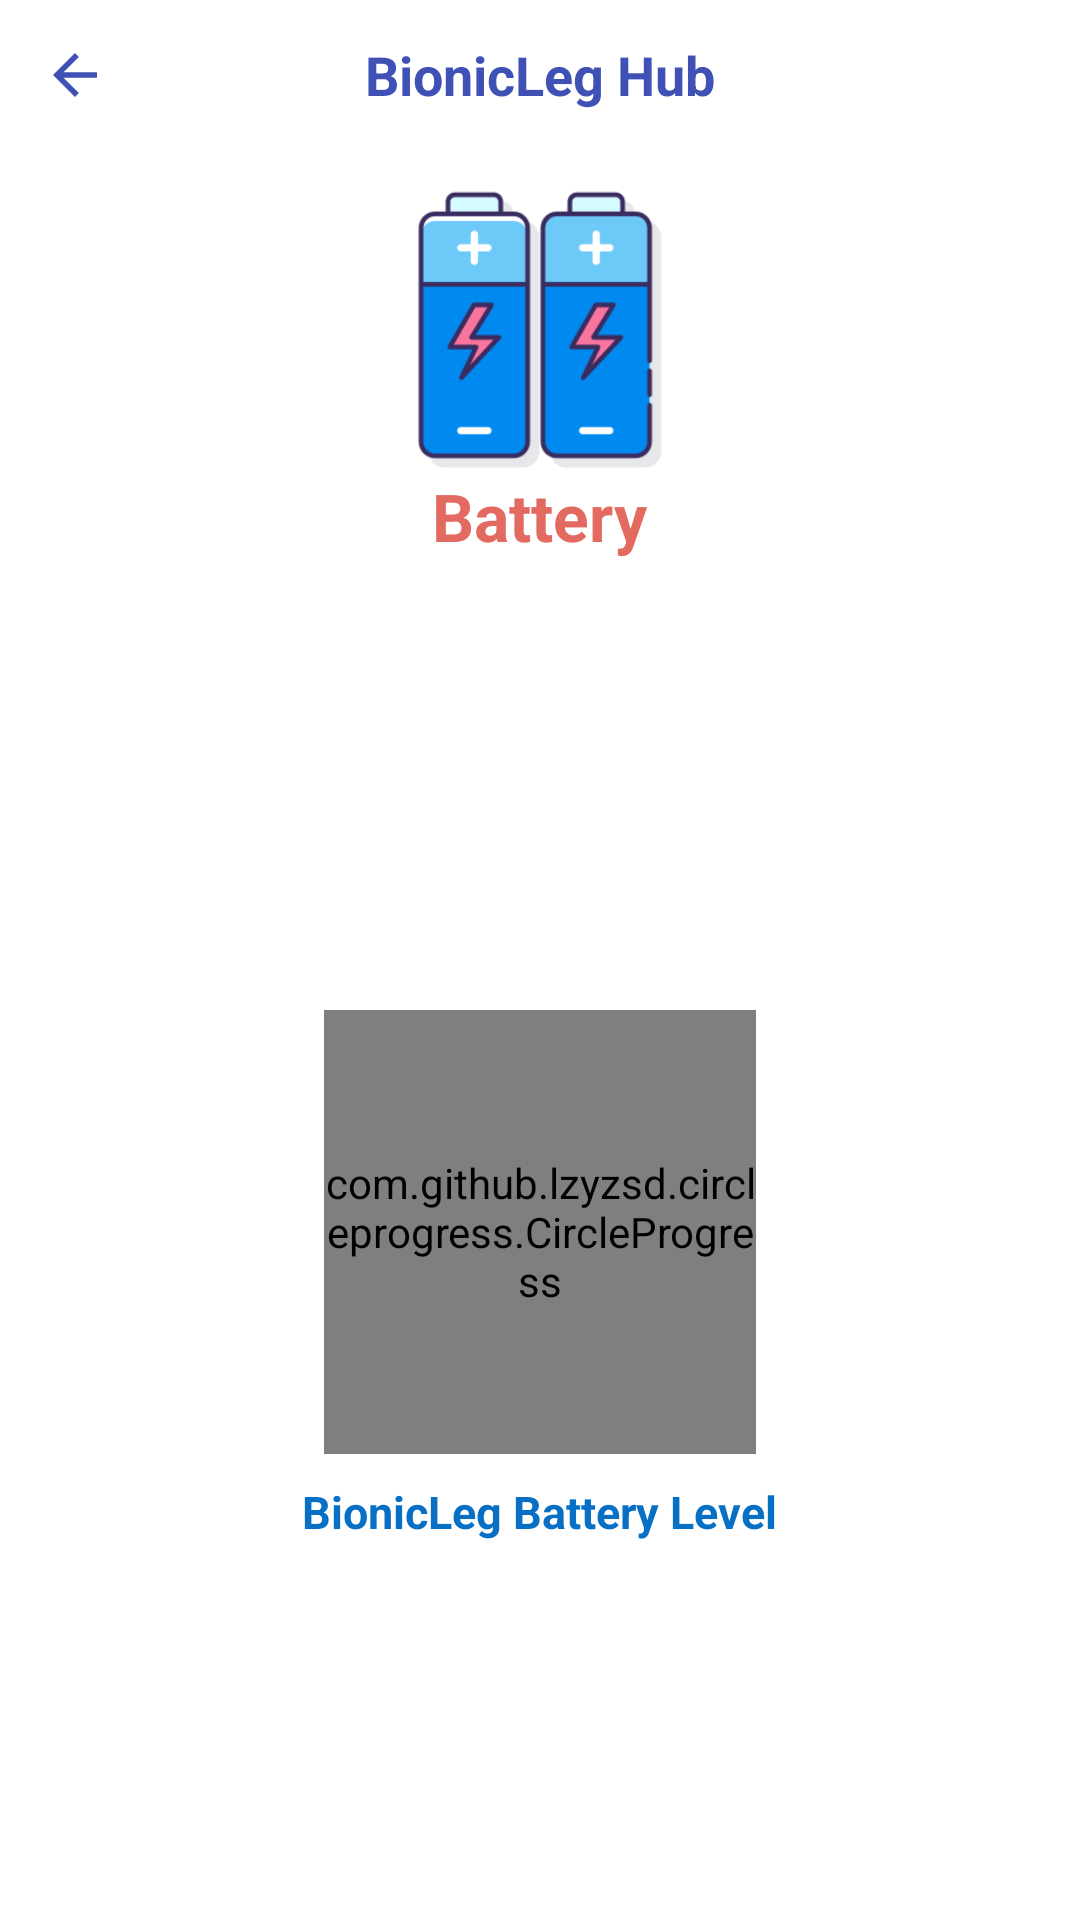

Icons on this 1080 × 1920 Android screen, each with the point to tap as (x,y):
back: (75,75)
